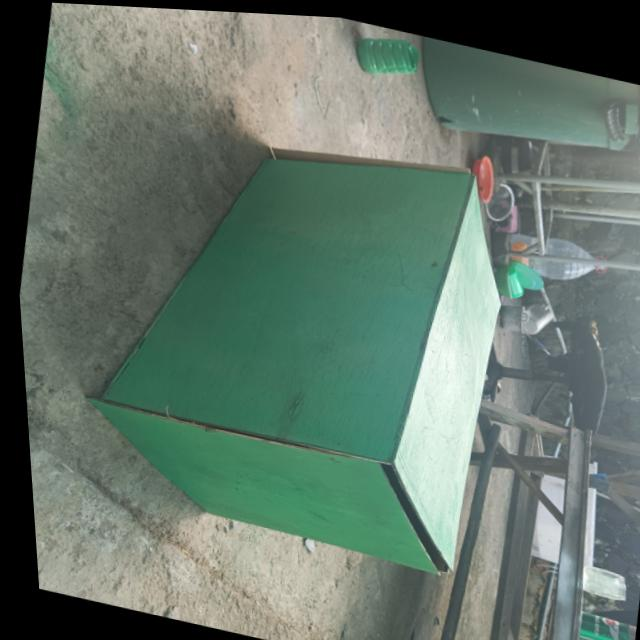green_box: (35, 76, 565, 609)
